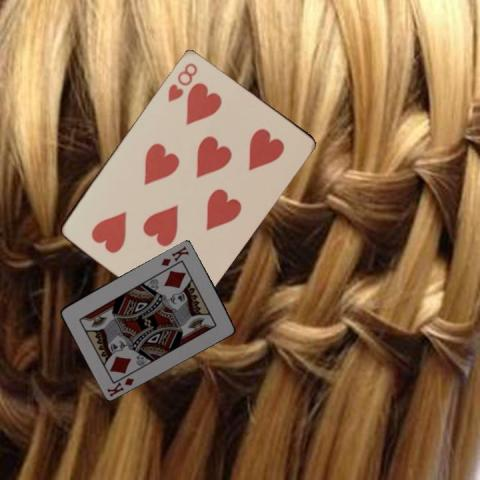8h: (165, 59, 199, 103)
Kd: (104, 368, 136, 398), (158, 243, 190, 267)
